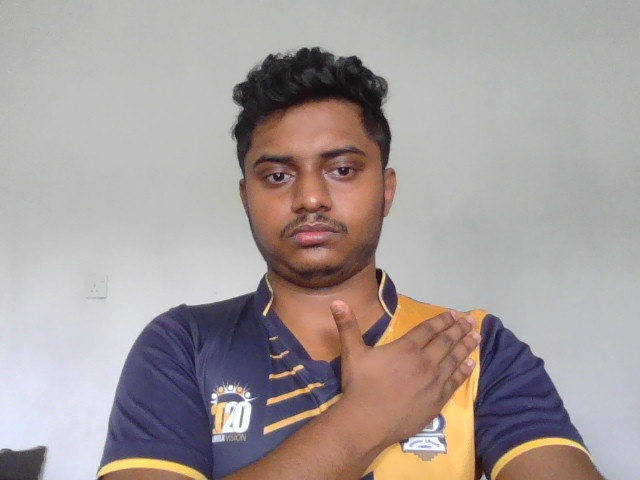Please: (325, 296, 485, 439)
